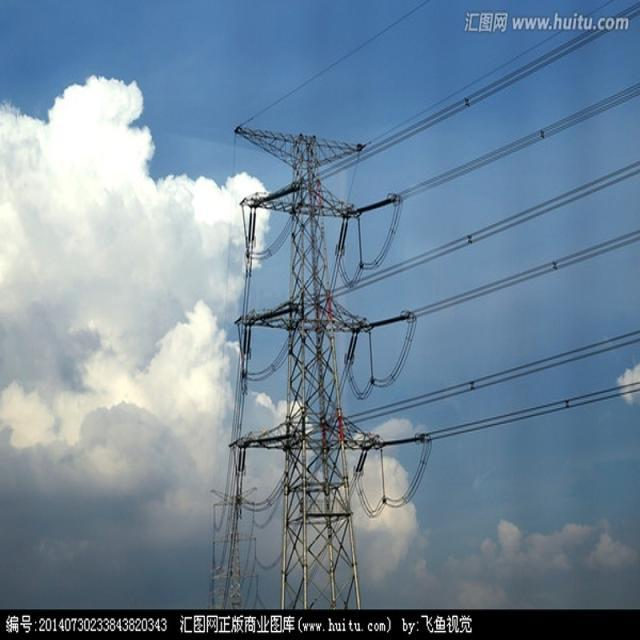non-critical vegetation: (222, 119, 400, 608)
